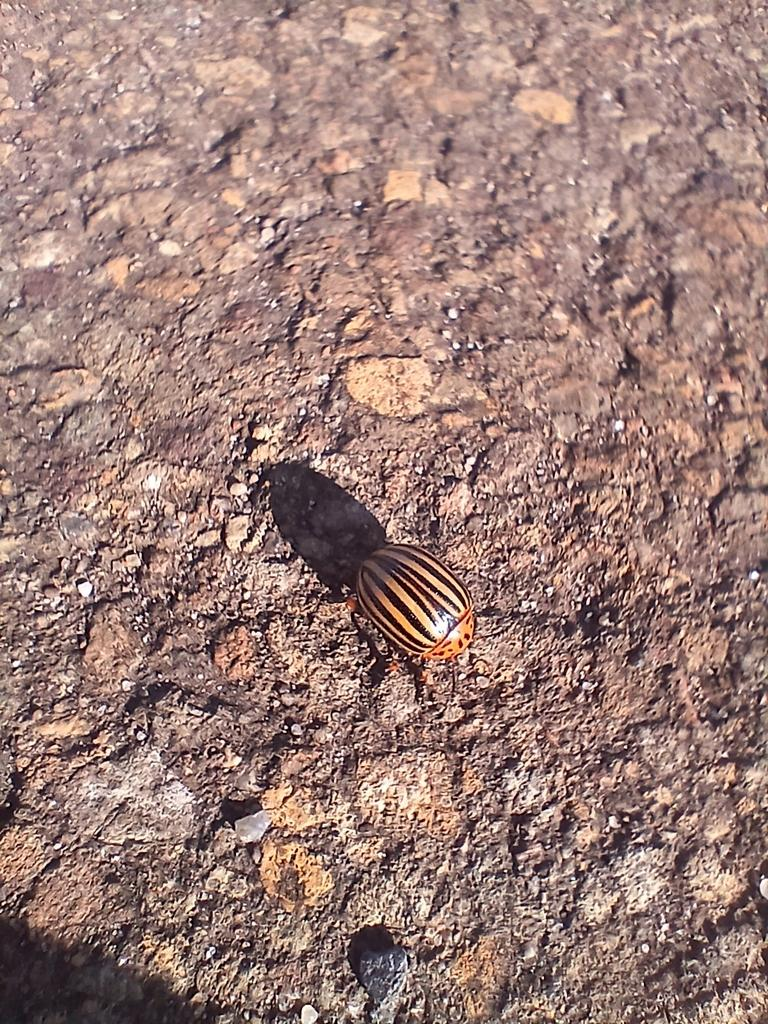potato_beetle: (295, 487, 541, 714)
